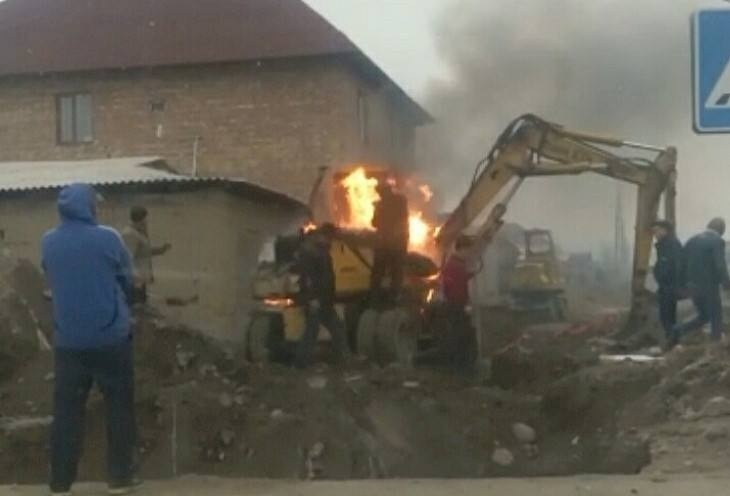fire: (330, 162, 438, 240)
